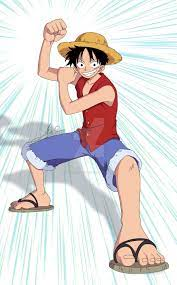luffy: (57, 32, 123, 79)
